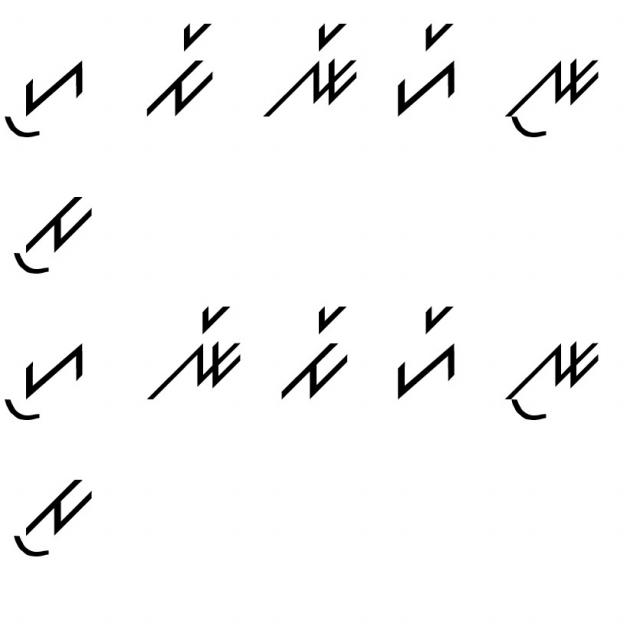har: (390, 13, 467, 118), (389, 299, 468, 401)
haw: (5, 334, 103, 432), (1, 61, 90, 144)
mbar: (271, 293, 355, 406), (138, 19, 220, 120)
mbaw: (8, 187, 104, 280), (11, 463, 96, 563)
ndar: (133, 297, 249, 407), (254, 15, 365, 125)
ndaw: (499, 325, 601, 428), (499, 44, 608, 140)
